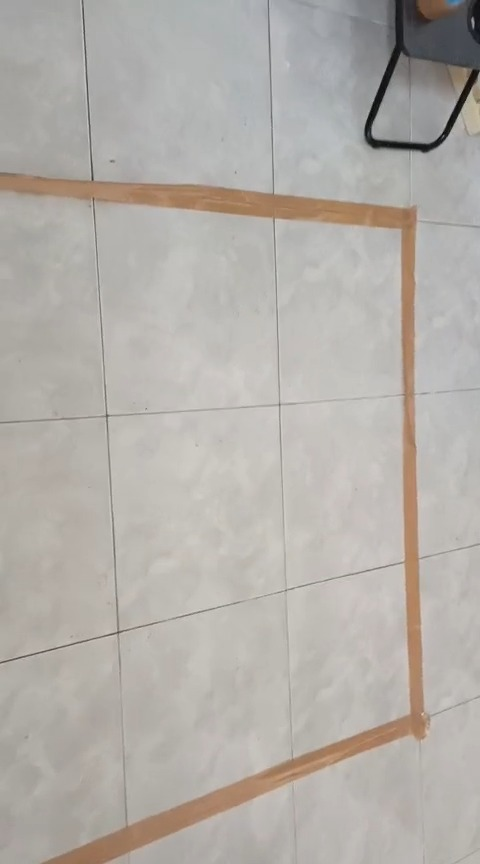floor marking: (0, 174, 427, 863)
